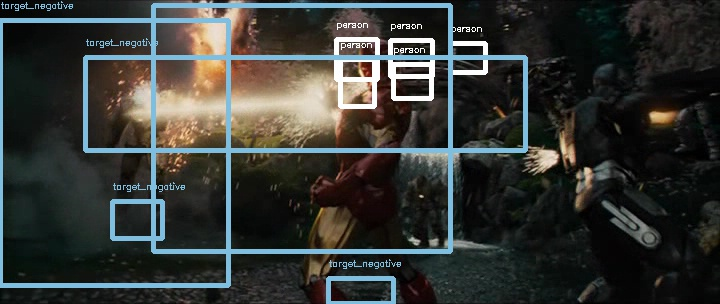person: (354, 35, 399, 87), (353, 35, 398, 87), (355, 35, 400, 87), (354, 34, 399, 86), (354, 36, 399, 88)
target_negative: (38, 185, 712, 256), (63, 89, 523, 172), (39, 103, 499, 136), (261, 29, 315, 66), (499, 23, 607, 31), (457, 302, 639, 303)
